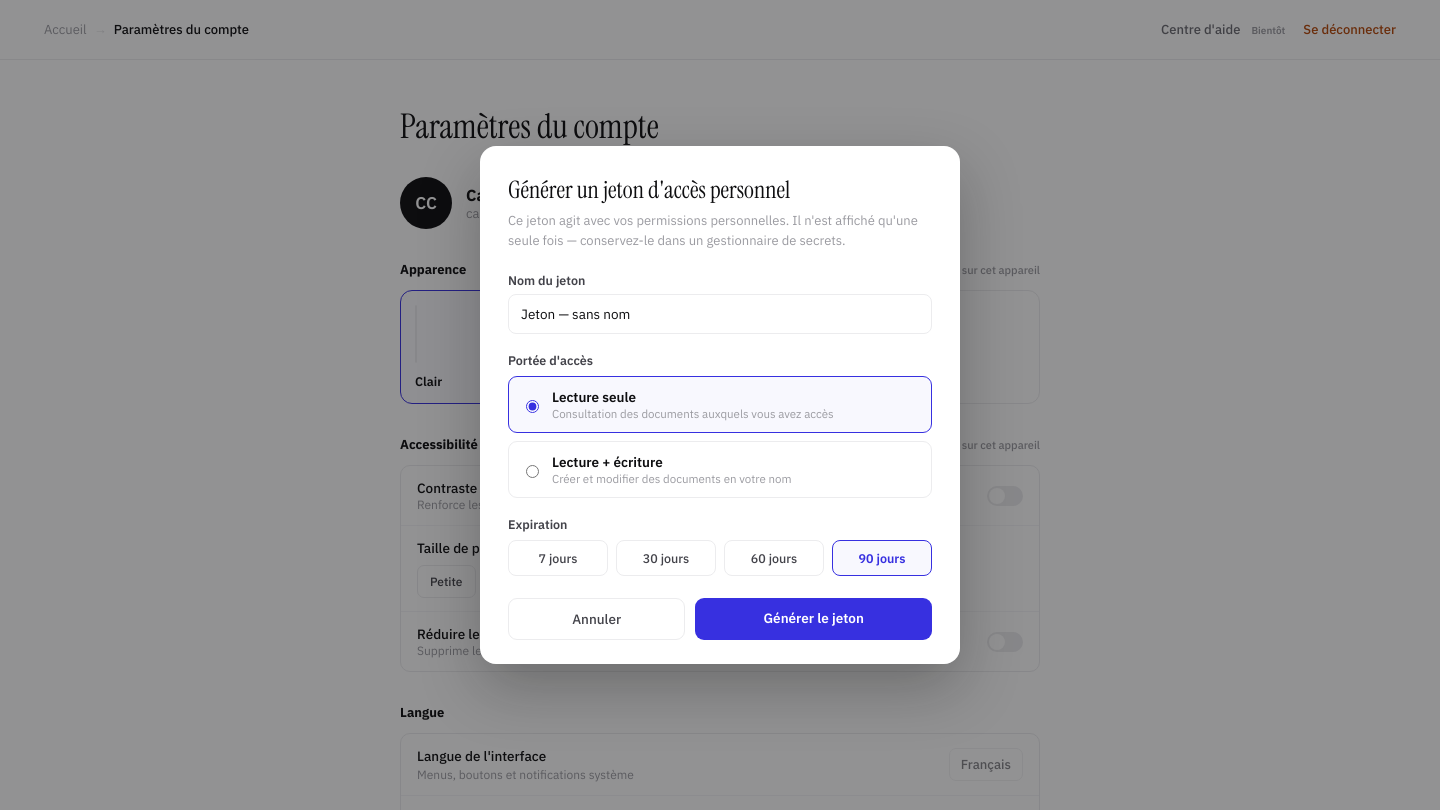
Scenario: AccountPage › jetons d’accès personnels › génération : préréglages 7/30/60/90 sans « sans expiration », jeton affiché une fois + Copier
The width and height of the screenshot is (1440, 810).
Expected: the radio buttons labelled "jours" read "7 jours", "30 jours", "60 jours", "90 jours", in this order, [508,540,608,576]; [616,540,716,576]; [724,540,824,576]; [832,540,932,576]
Replace the text in the field labelled "Nom du jeton" with "CI nocturne" at (720, 314), box [508,294,932,334]
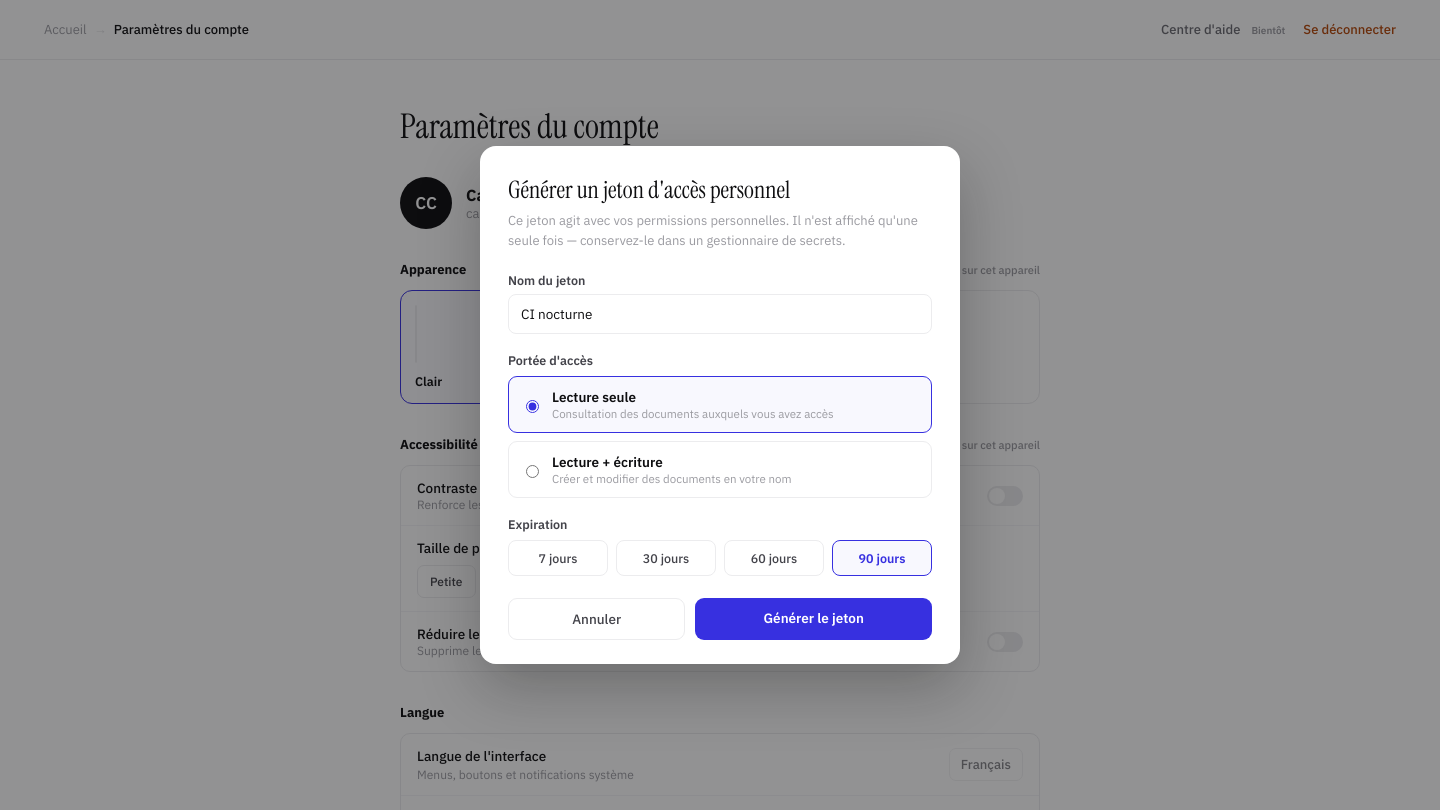
Click the text "Lecture + écriture".
click(607, 462)  # box [552,453,663,471]
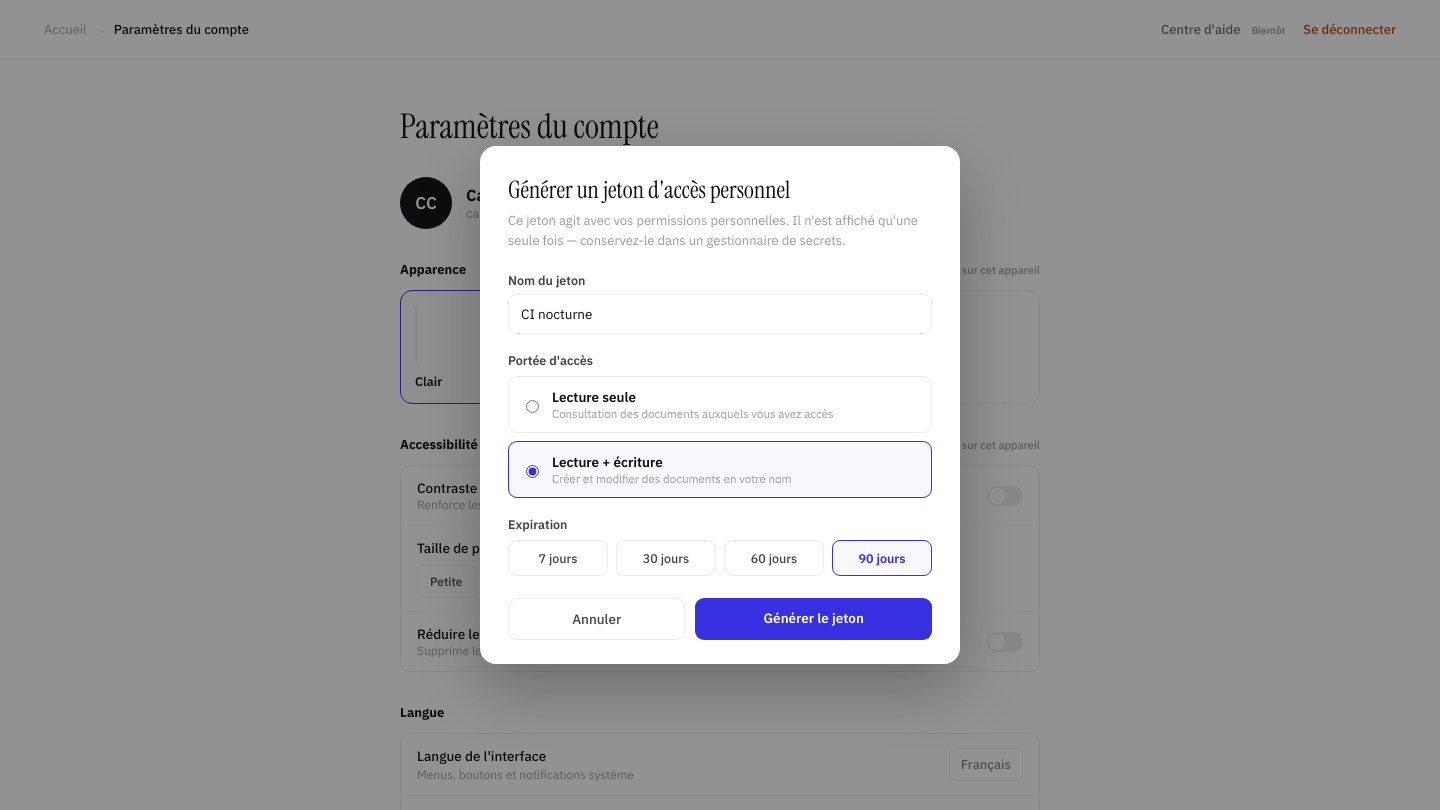
Click the radio button labelled "30 jours".
click(666, 558)  # box [616,540,716,576]
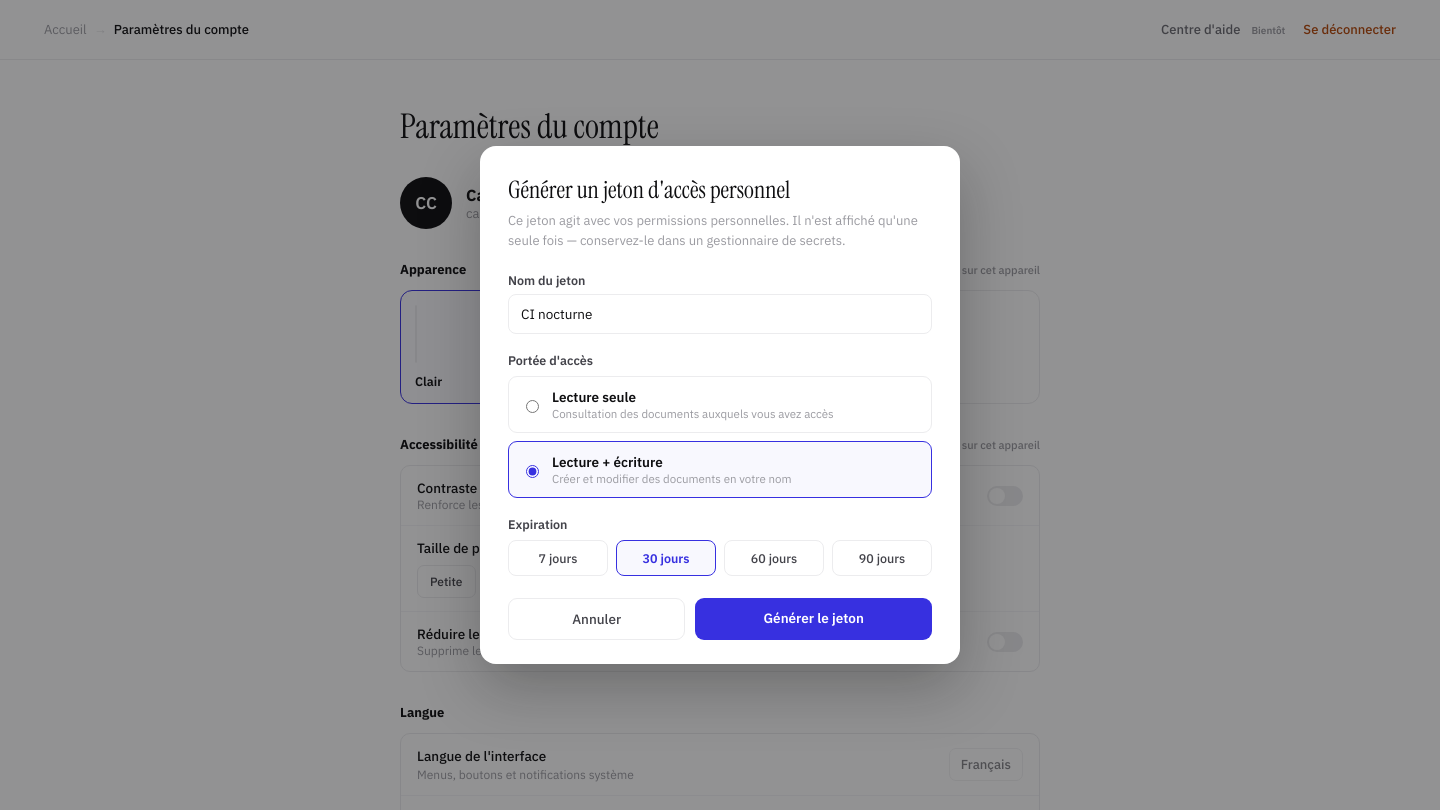
Click the button "Générer le jeton".
click(814, 619)  # box [695,598,932,640]
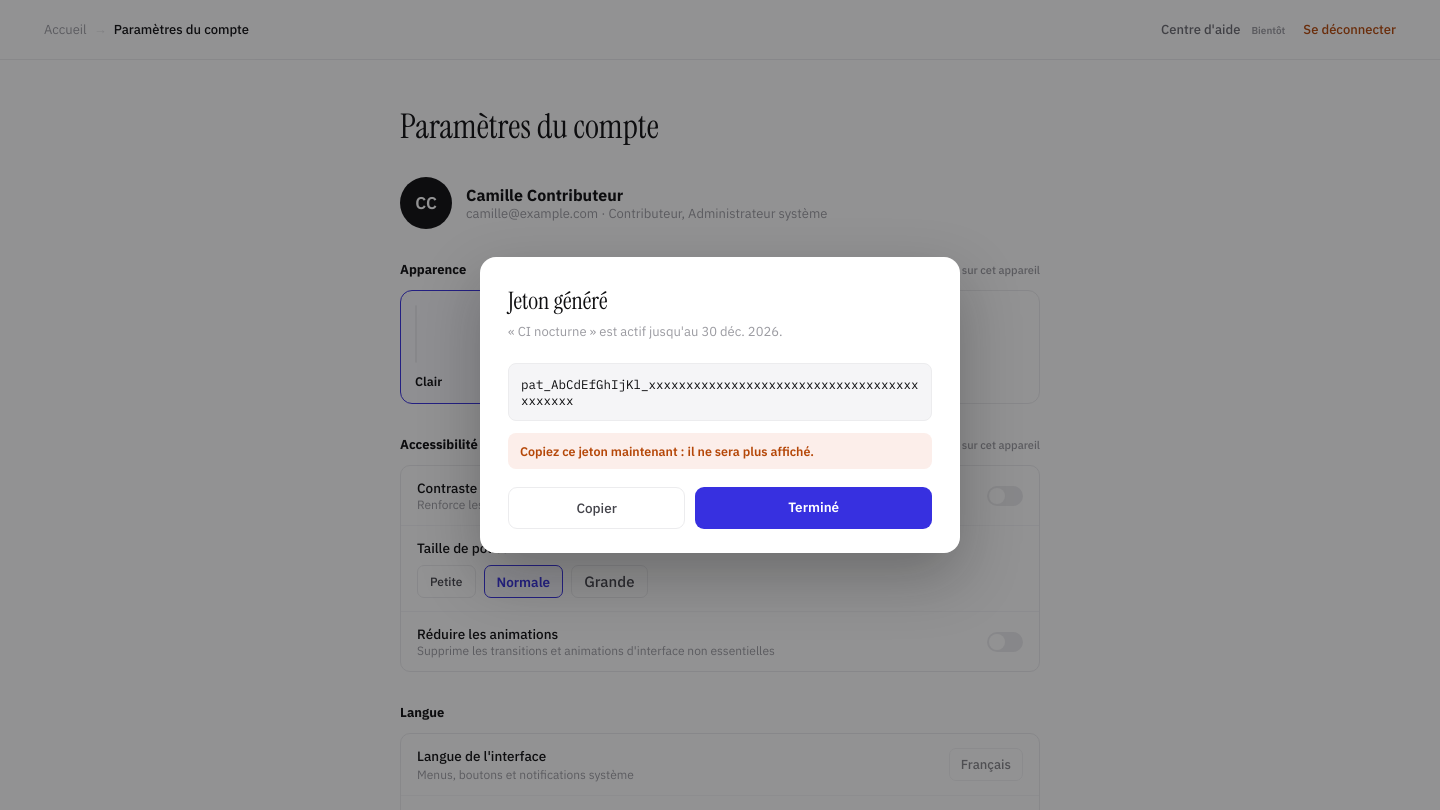
Expected: the text with test id "pat-plaintext" is shown, [508,363,932,421]
Expected: the text "Copiez ce jeton maintenant : il ne sera plus affiché." is shown, [508,433,932,469]
Click the button "Copier".
click(597, 508)  # box [508,487,685,529]
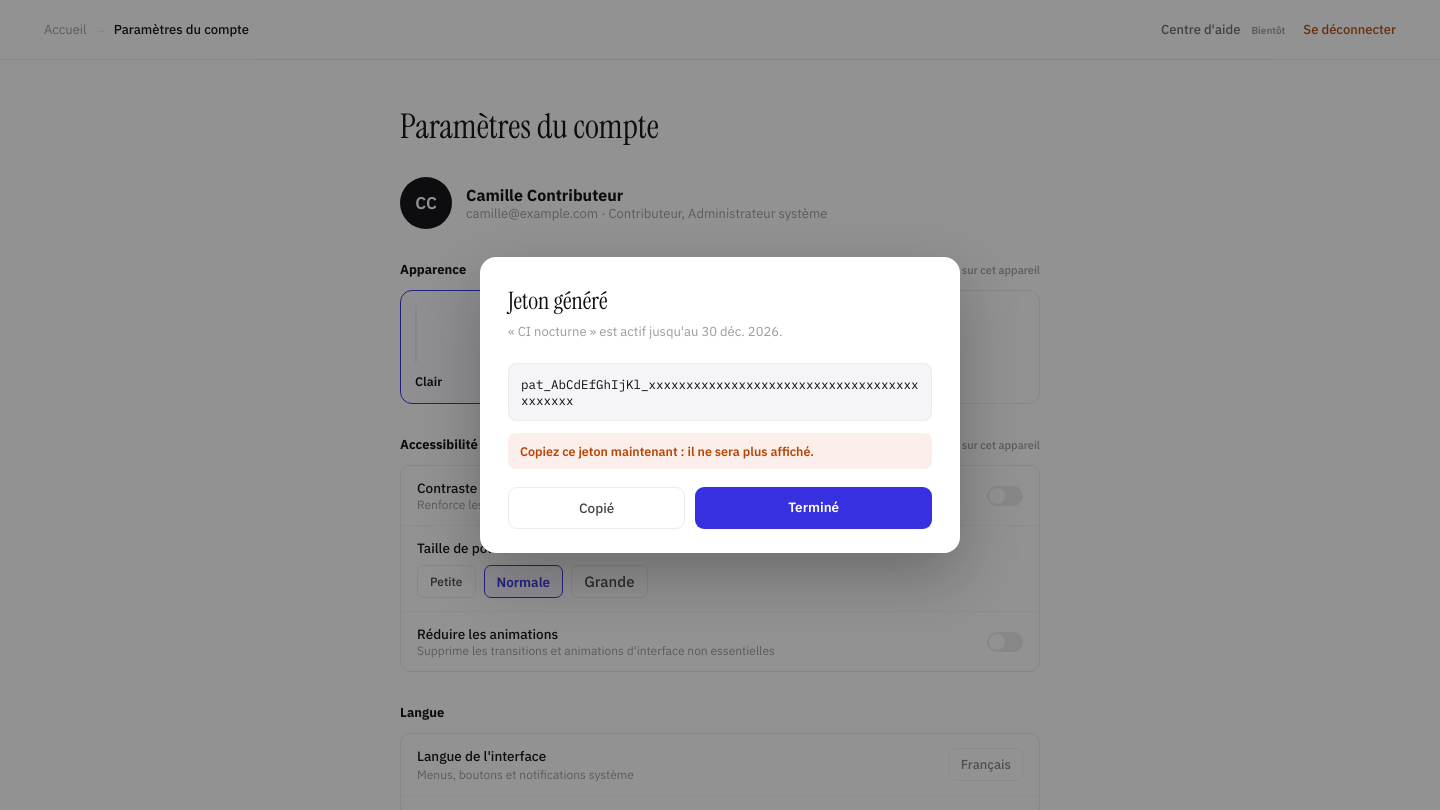
Expected: the button "Copié" is shown, [508,487,685,529]
